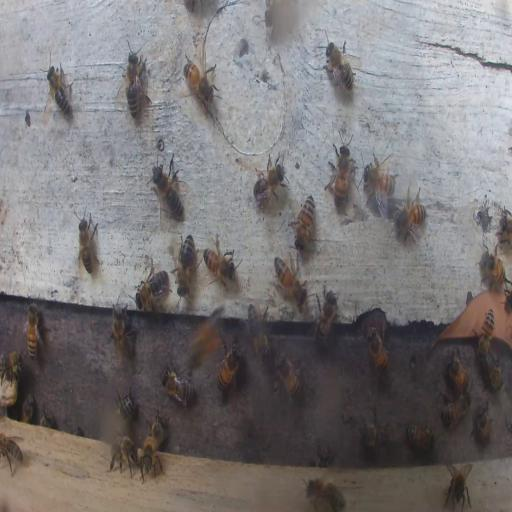bee: (326, 127, 355, 210), (151, 154, 185, 221), (361, 153, 399, 212), (188, 308, 223, 370), (182, 51, 217, 110), (201, 236, 239, 290), (252, 157, 288, 210), (393, 186, 426, 243), (121, 41, 144, 119), (324, 38, 356, 94), (109, 301, 136, 360), (312, 288, 338, 349), (135, 265, 171, 309), (274, 253, 306, 302), (76, 208, 99, 276), (303, 475, 345, 511), (443, 464, 474, 511), (247, 301, 271, 361), (274, 350, 302, 401), (45, 65, 72, 117), (108, 434, 140, 476), (174, 232, 196, 293), (161, 366, 194, 406), (217, 339, 241, 390), (293, 194, 315, 247), (0, 349, 22, 400), (440, 392, 471, 428), (479, 246, 505, 286), (366, 325, 388, 372), (0, 432, 24, 475), (444, 352, 469, 393), (361, 416, 389, 452), (142, 428, 162, 475), (404, 423, 436, 452), (144, 411, 165, 453), (26, 303, 41, 359), (472, 402, 492, 444), (479, 306, 494, 360), (116, 388, 134, 419), (487, 355, 502, 391), (498, 210, 512, 244), (21, 393, 35, 424), (315, 446, 330, 466), (41, 408, 55, 427), (505, 276, 512, 310)
